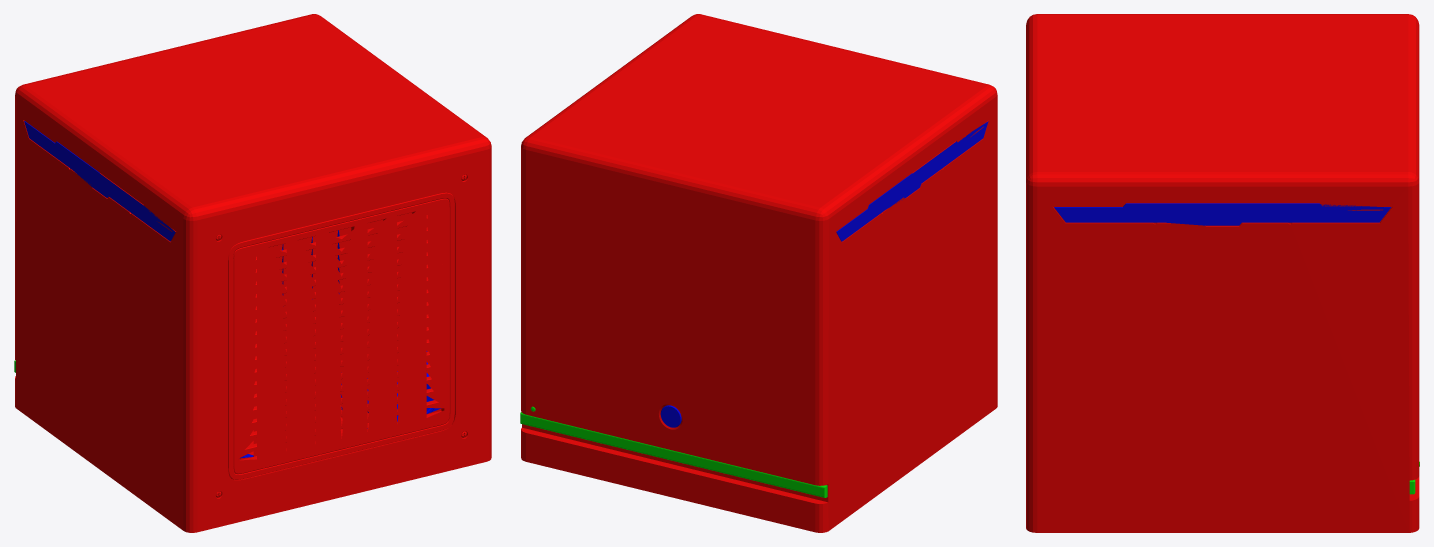
File: Test_Machine.obj
3 renders of one model, left to right at view 1: azimuth 30°, elevation 25°; view 2: azimuth 150°, elevation 25°; view 3: azimuth 270°, elevation 25°, orthographic. The views are drawn at different scales.
Parts seen in each view (by area): view 1: Test_Machine; view 2: Test_Machine; view 3: Test_Machine.
Boxes of the visible parts, x1=… form: Test_Machine: x1=14, y1=14, x2=491, y2=532; Test_Machine: x1=520, y1=14, x2=997, y2=532; Test_Machine: x1=1026, y1=14, x2=1419, y2=532.
Size of the model in its own units: 0.1 by 0.1 by 0.1002.
